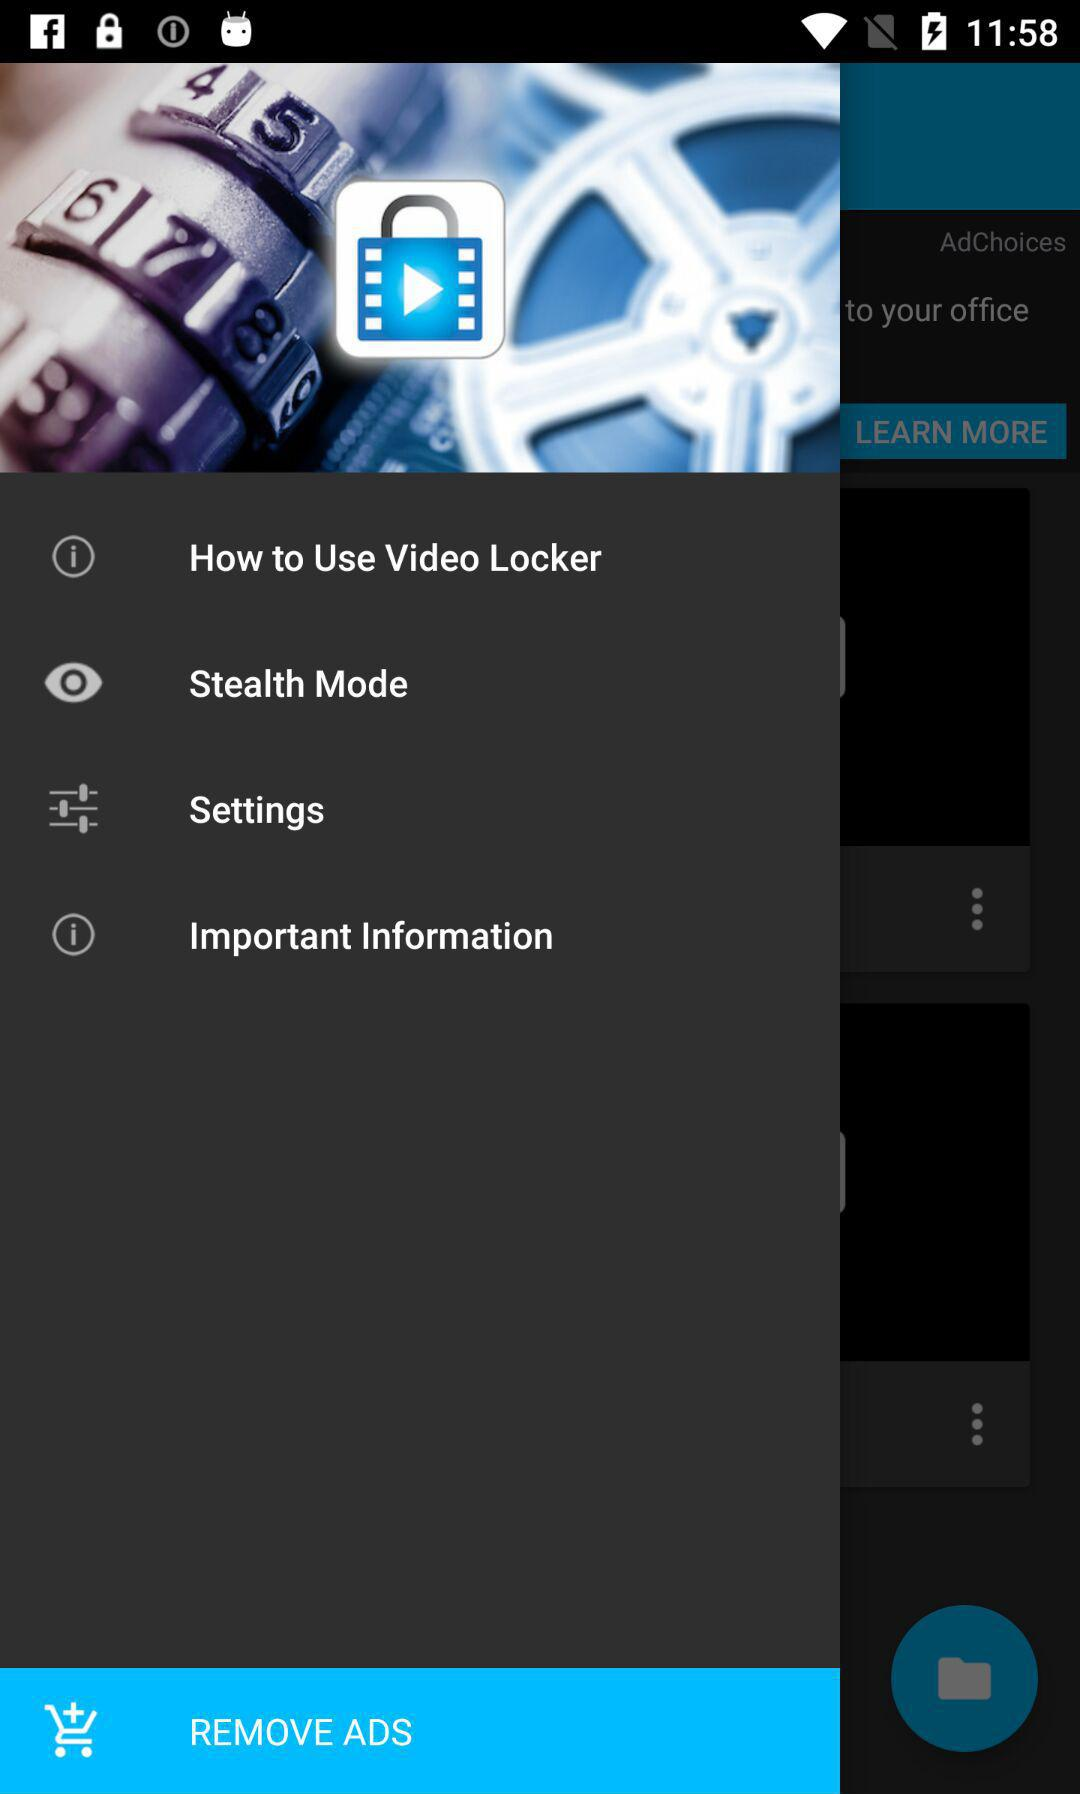Drawer: (1, 64, 840, 1794)
Icon: (49, 782, 100, 835), (44, 661, 105, 705), (53, 534, 97, 580), (53, 912, 97, 959)
Image: (1, 64, 840, 474)
Text: (191, 919, 553, 959), (190, 542, 603, 574), (190, 668, 410, 700), (190, 794, 325, 833)
TextButton: (1, 1668, 840, 1794)
UpperTaskBar: (1, 1, 1080, 64)
